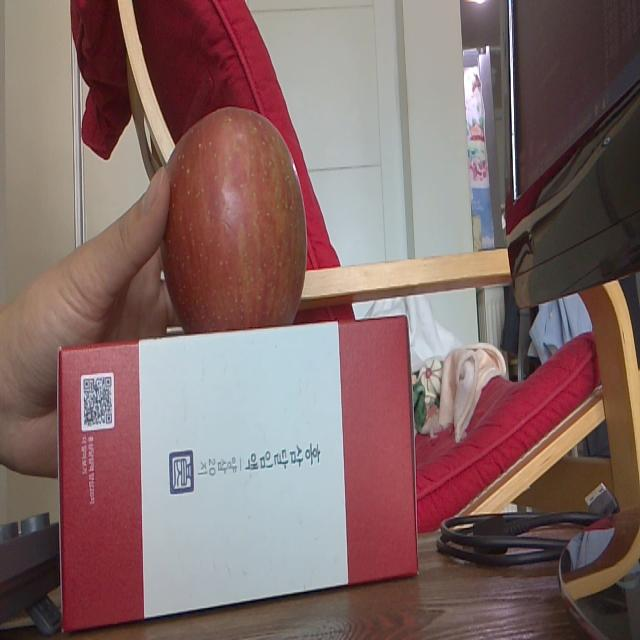apple: (159, 101, 309, 323)
